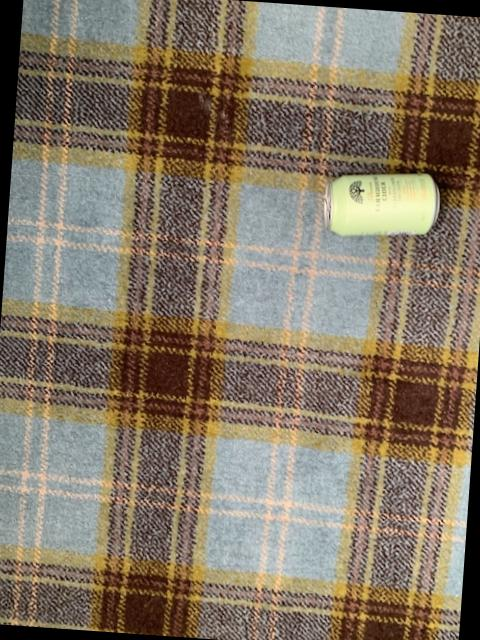metal: (324, 174, 440, 236)
